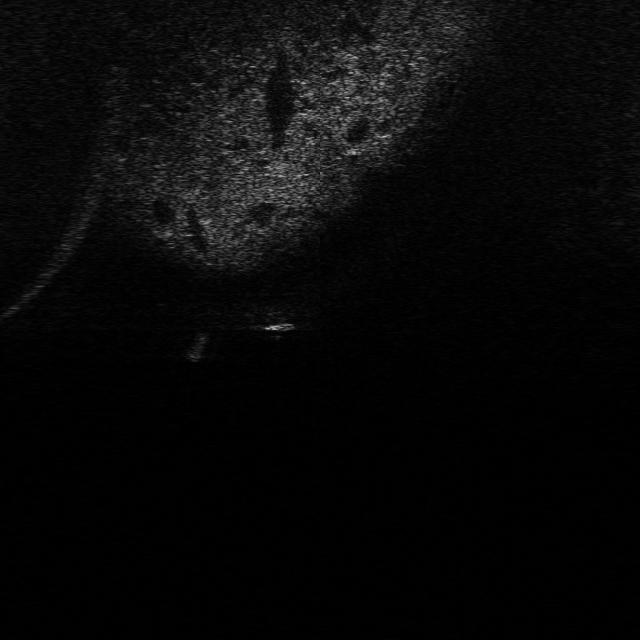cube: (247, 304, 297, 336)
cylinder: (183, 330, 211, 365)
